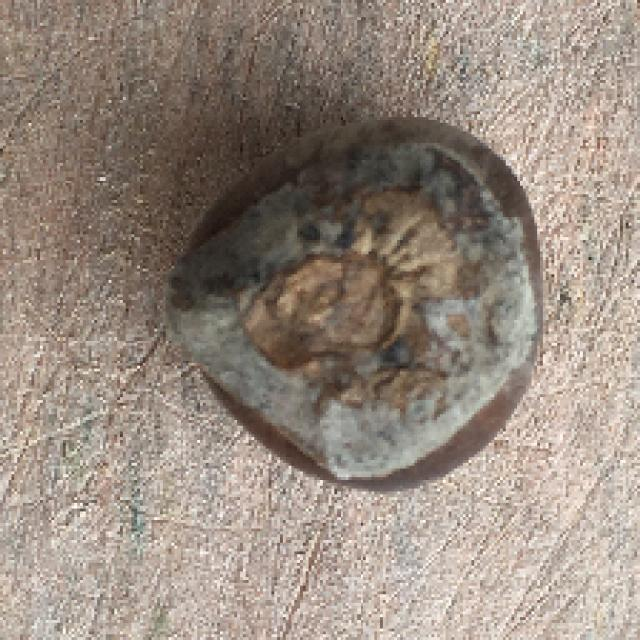damagedHazelnut: (155, 113, 558, 496)
